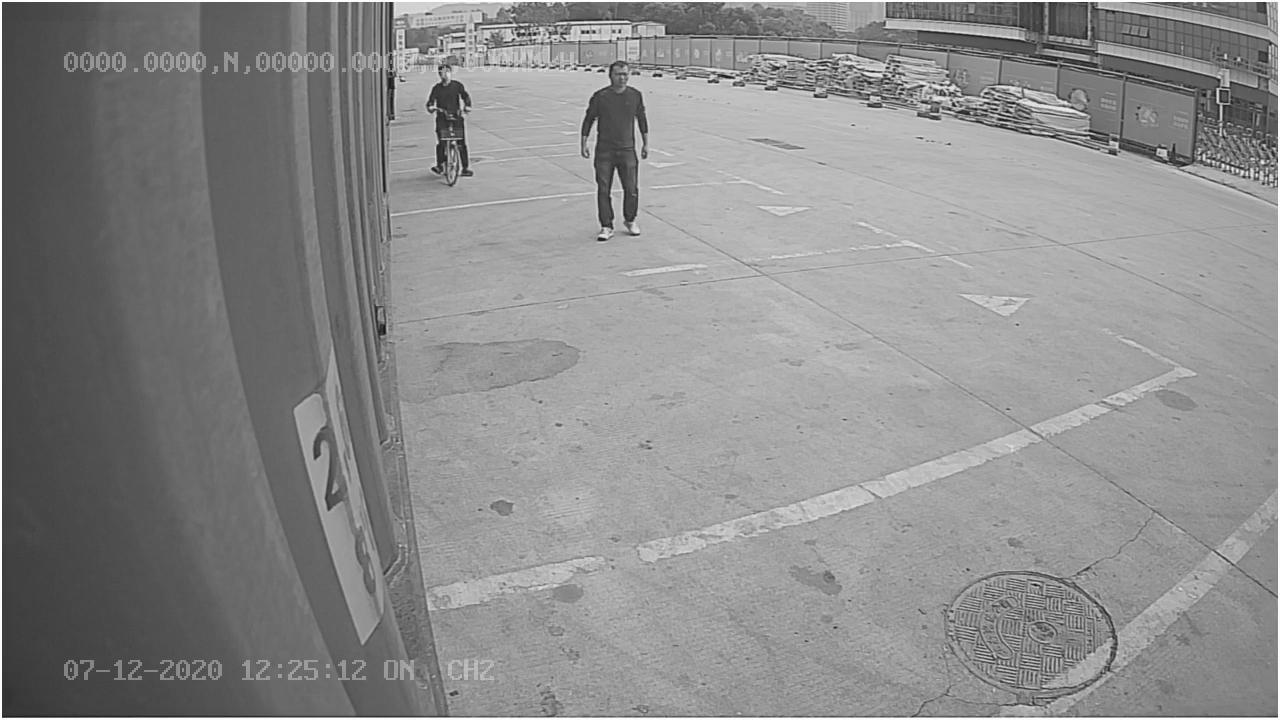person: (575, 58, 655, 243)
